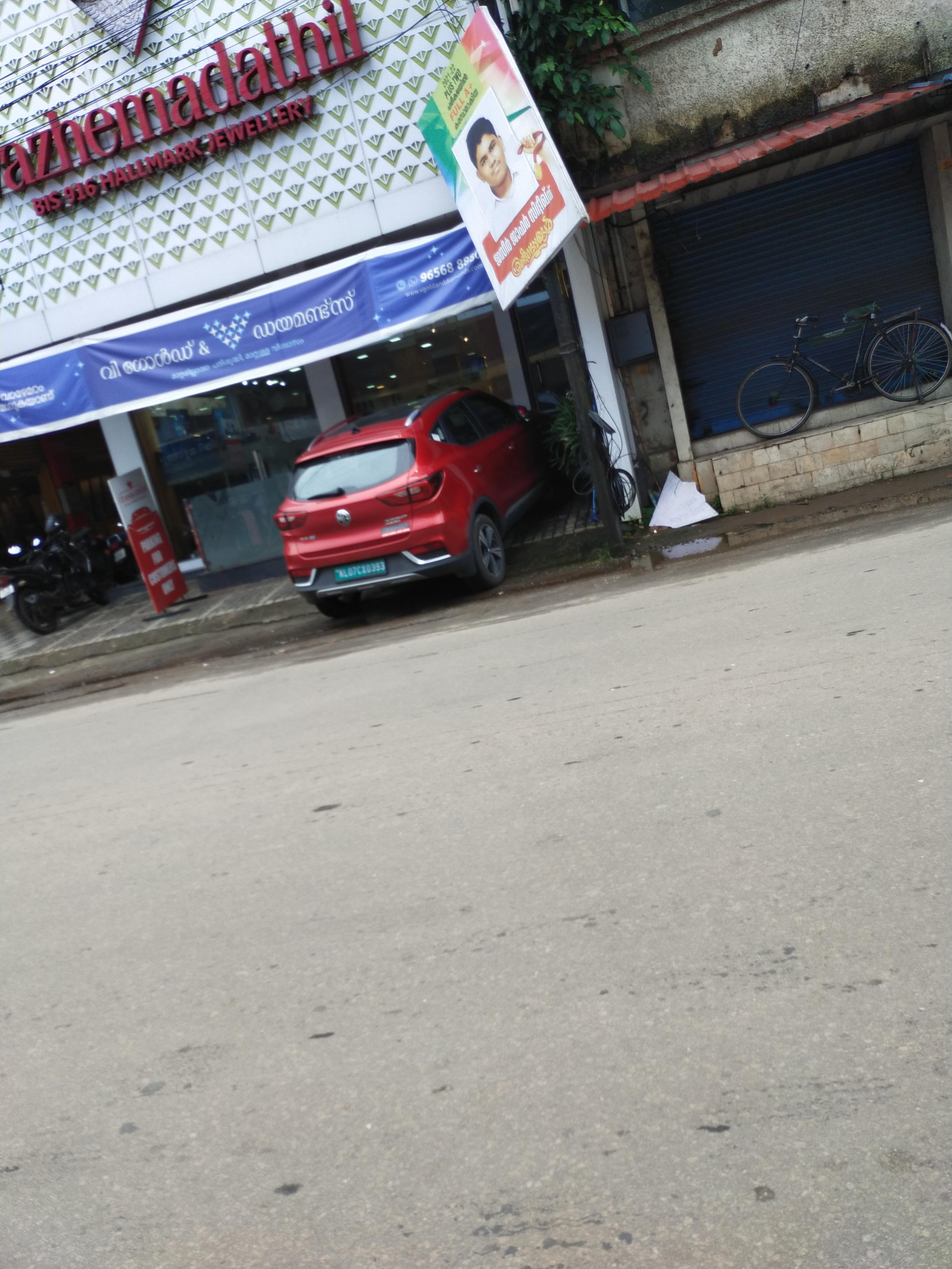green license plate: (334, 556, 395, 585)
